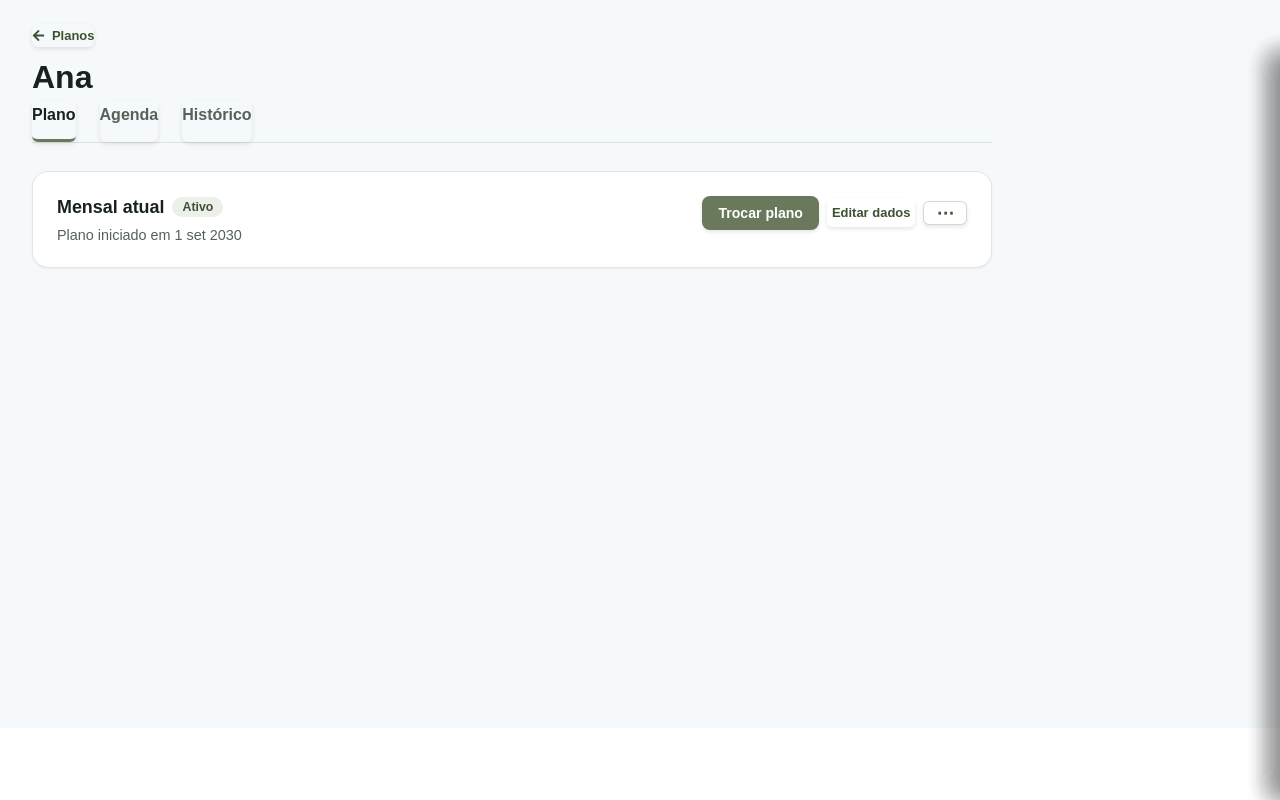
Test: Planos no contêiner do App Shell › preserva corretamente as opções e descarta preview stale após troca de plano
This screenshot has width=1280, height=800.
Click the button "Trocar plano" at coordinates (761, 213), box [702,196,819,230]
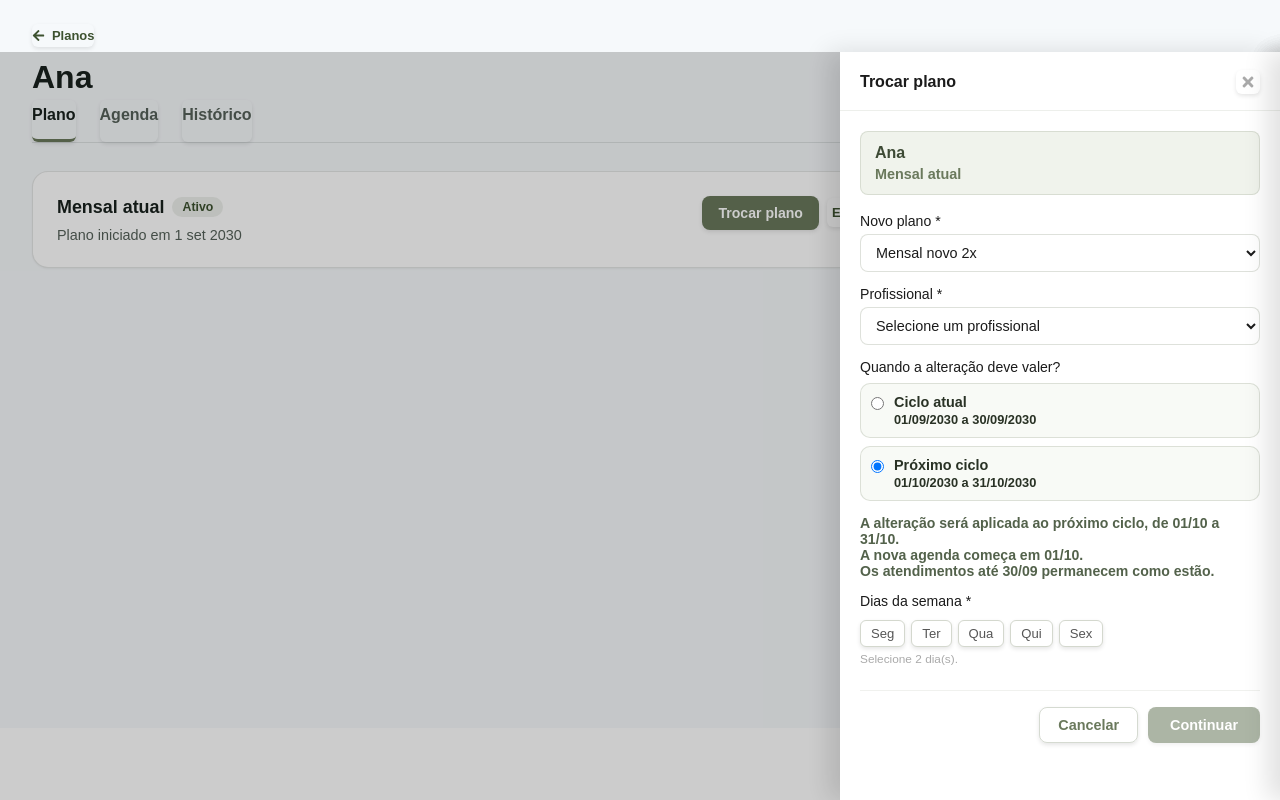
Expected: the text "01/09/2030 a 30/09/2030" is shown, [894,412,1036,427]
Expected: the text "01/10/2030 a 31/10/2030" is shown, [894,475,1036,490]
Select "Mensal novo 3x" in the dropdown labelled "Novo plano *" at coordinates (1060, 253), box [860,234,1260,272]
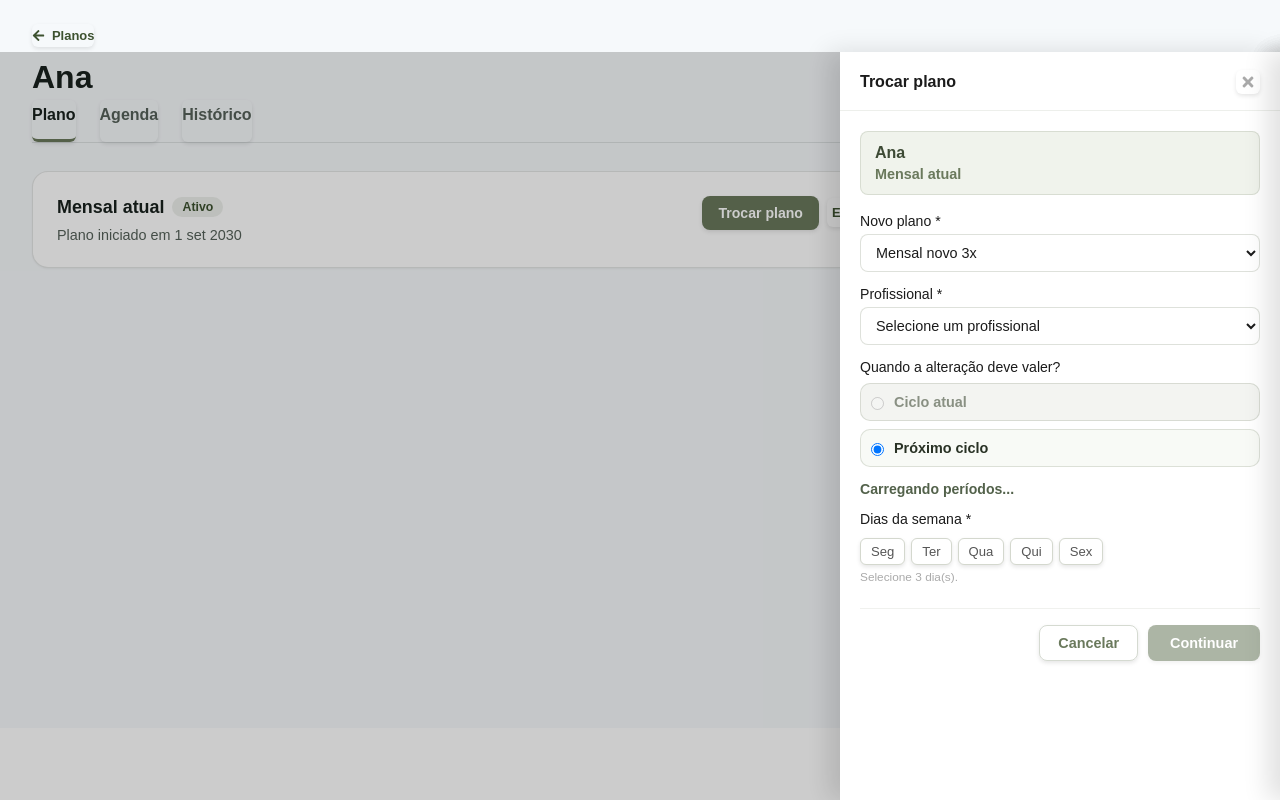
Expected: the text "Carregando períodos..." is shown, [860,481,1014,497]
Select "Mensal novo 2x" in the dropdown labelled "Novo plano *" at coordinates (1060, 253), box [860,234,1260,272]
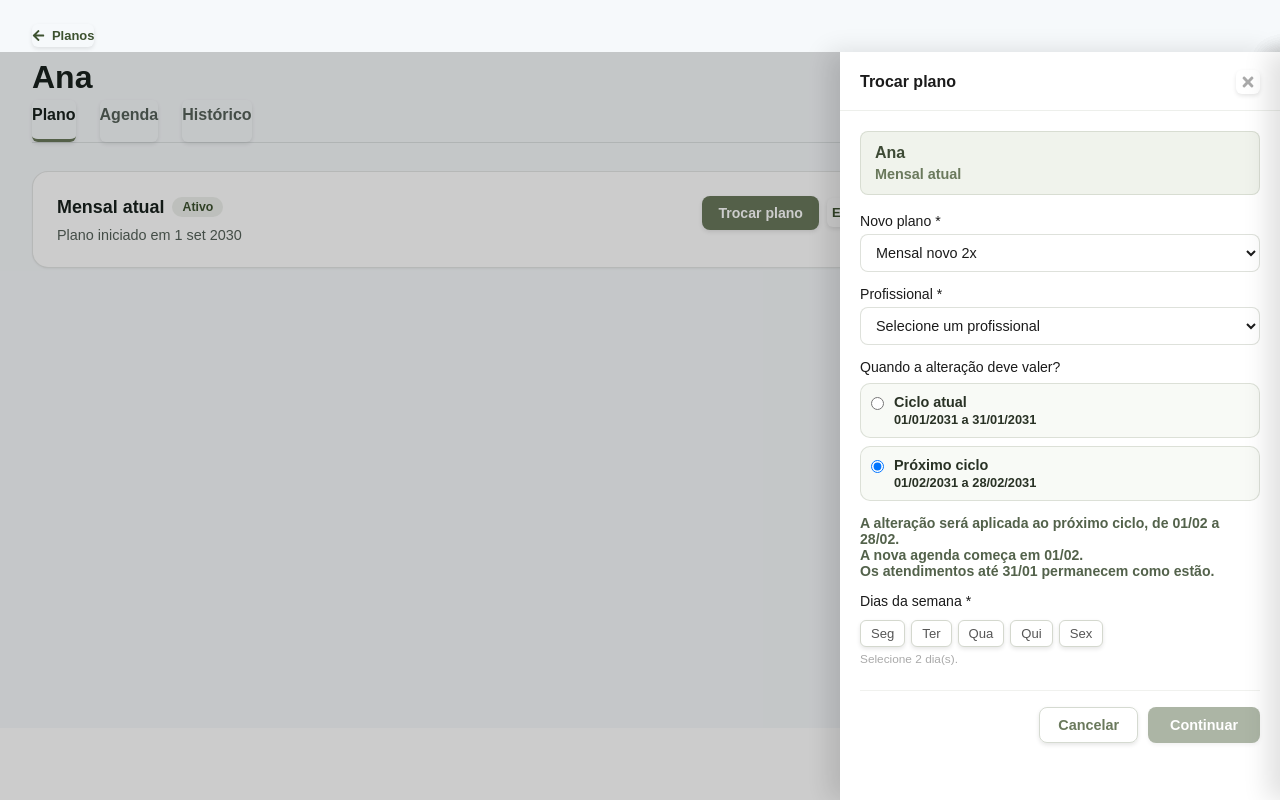
Expected: the text "Carregando períodos..." is shown, [860,515,1260,579]
Expected: the text "A alteração será aplicada ao próximo ciclo" is shown, [860,515,1219,579]
Select "Mensal novo 3x" in the dropdown labelled "Novo plano *" at coordinates (1060, 253), box [860,234,1260,272]
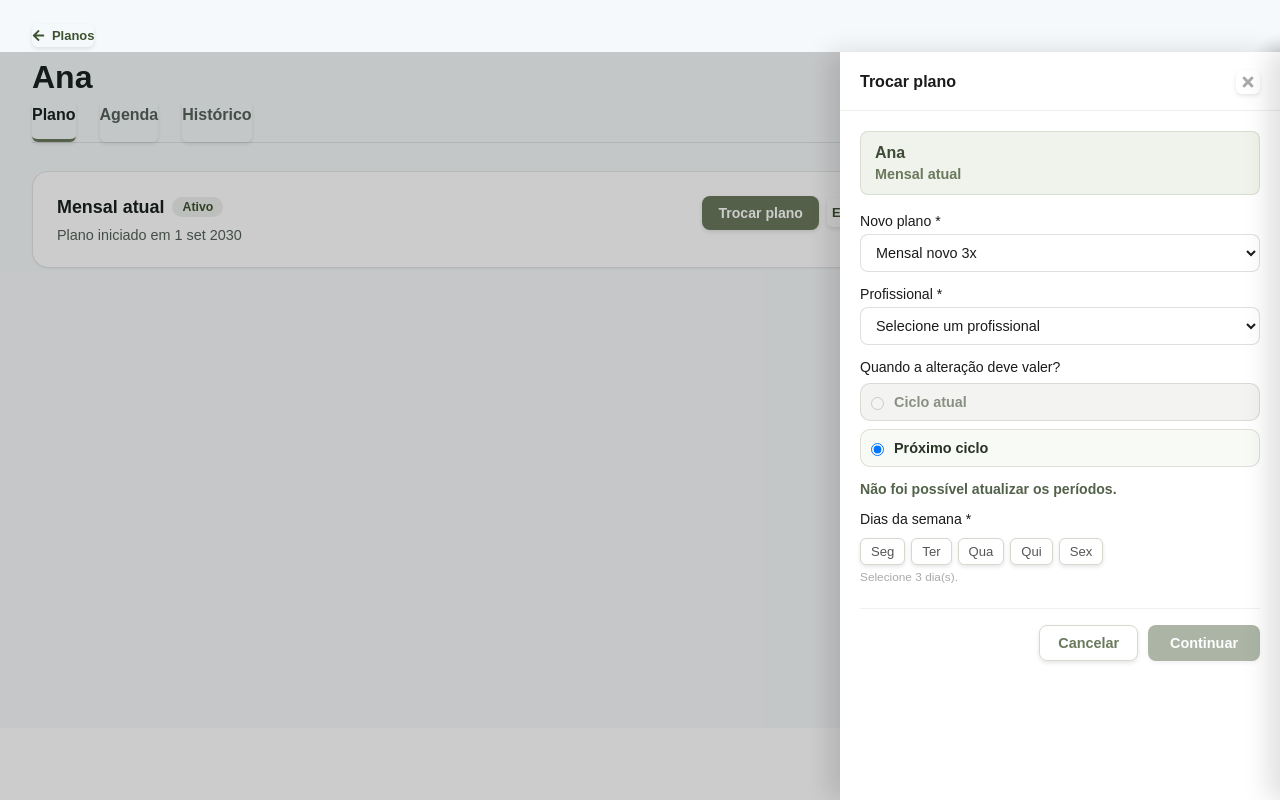
Expected: the text "Não foi possível atualizar os períodos." is shown, [860,481,1117,497]
Expected: the text "2031" is gone
